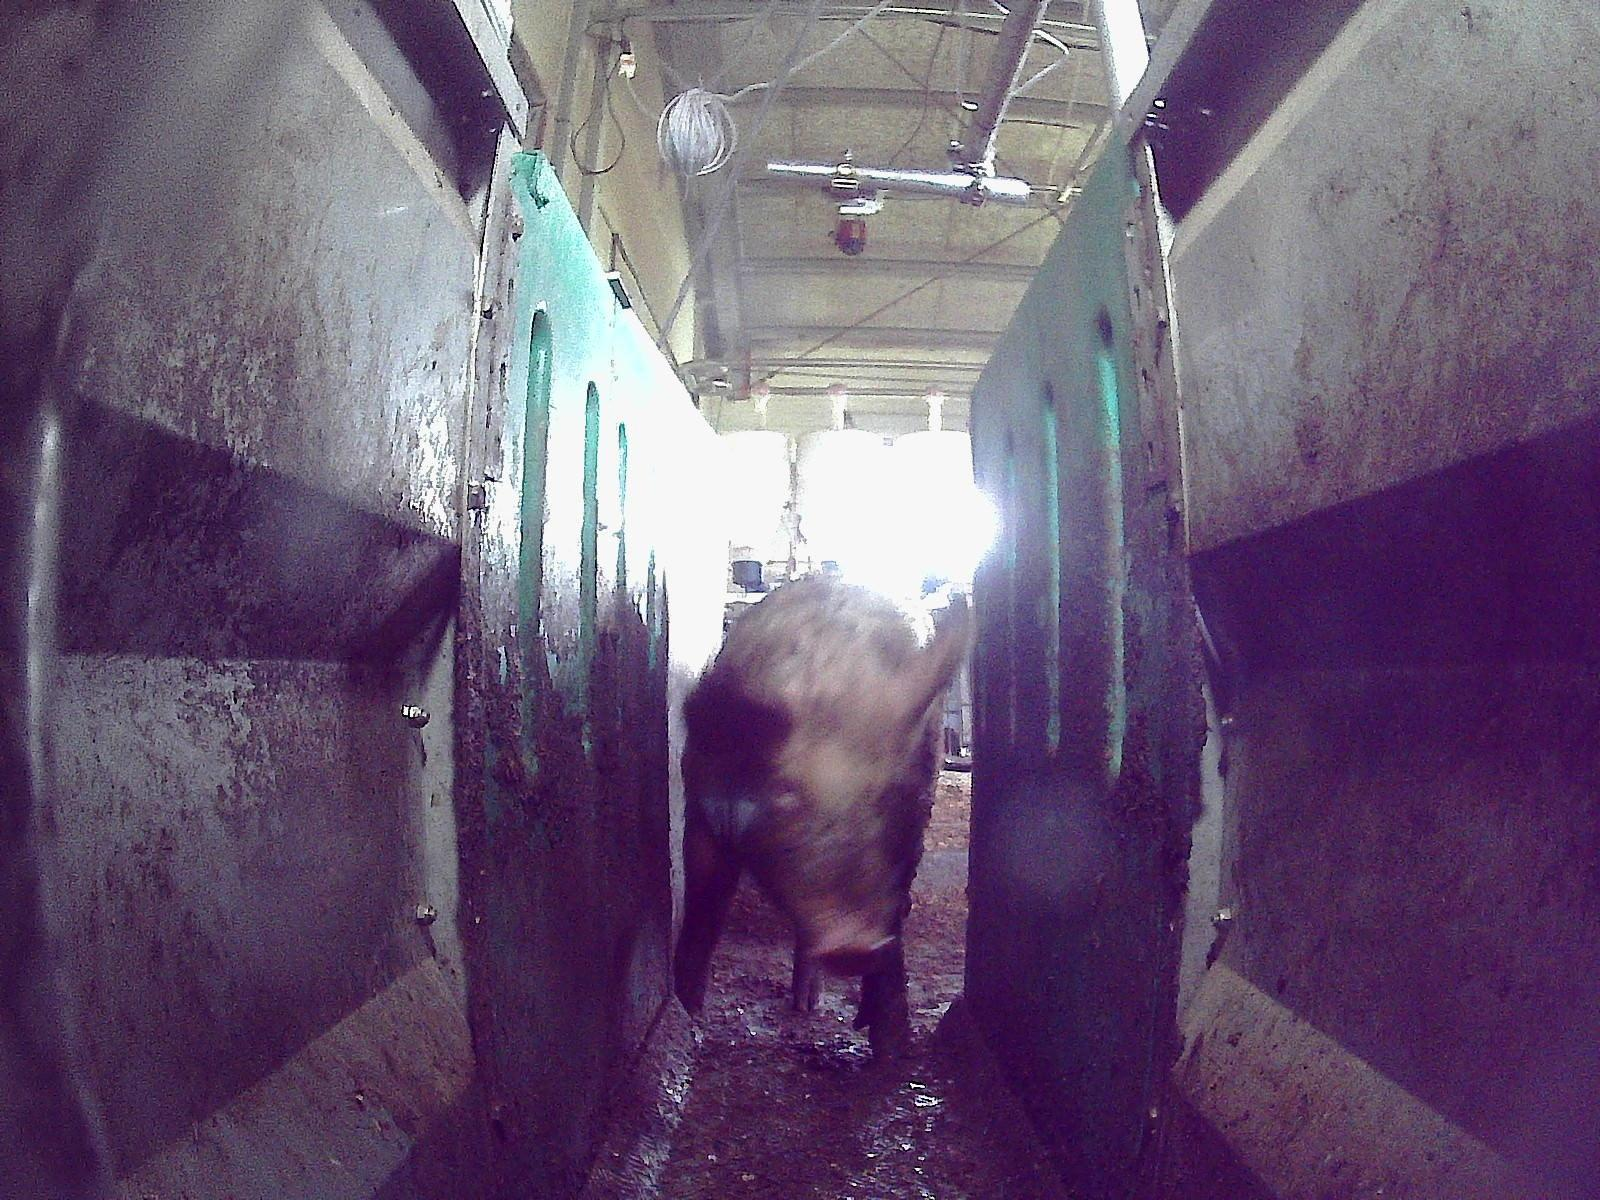Face: (734, 730, 906, 971)
